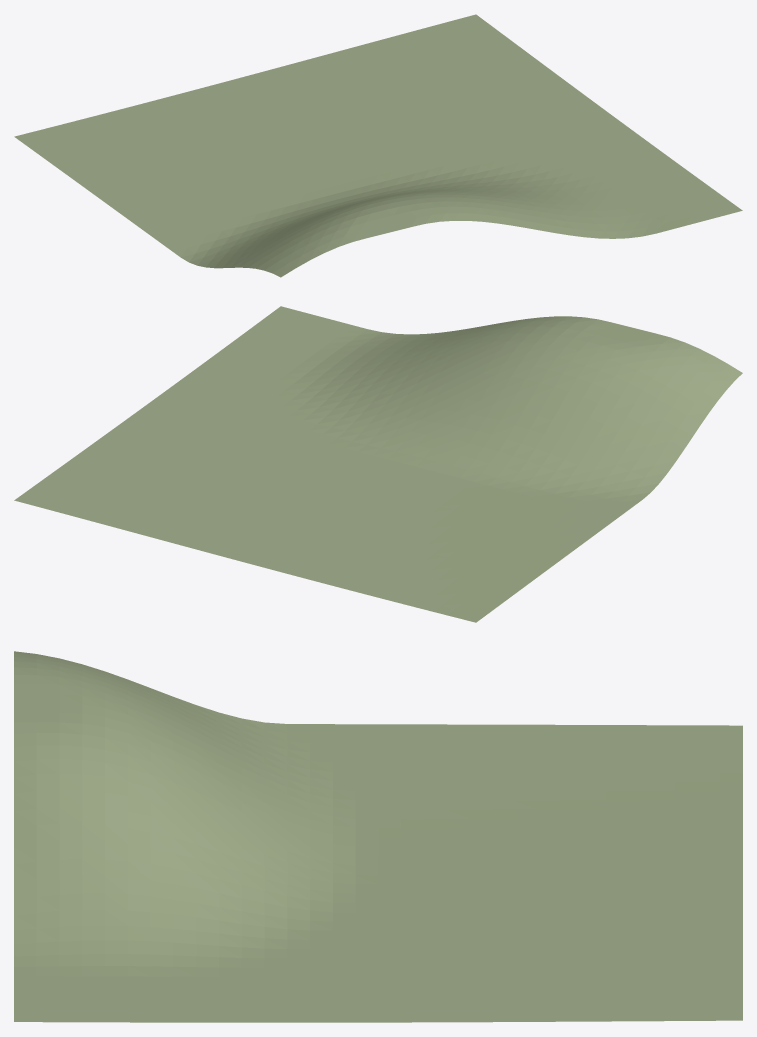
The model's file is desert-23-25.glb.
3 renders of one model, top to bottom at view 1: azimuth 30°, elevation 25°; view 2: azimuth 150°, elevation 25°; view 3: azimuth 270°, elevation 25°, orthographic. The views are drawn at different scales.
Parts seen in each view (by area): view 1: desert-23-25; view 2: desert-23-25; view 3: desert-23-25.
Boxes of the visible parts, x1,y1,x2,y2 form: desert-23-25: (14, 14, 742, 277); desert-23-25: (14, 306, 742, 622); desert-23-25: (14, 651, 742, 1022).
Size of the model in its own units: 512 by 77.29 by 512.
